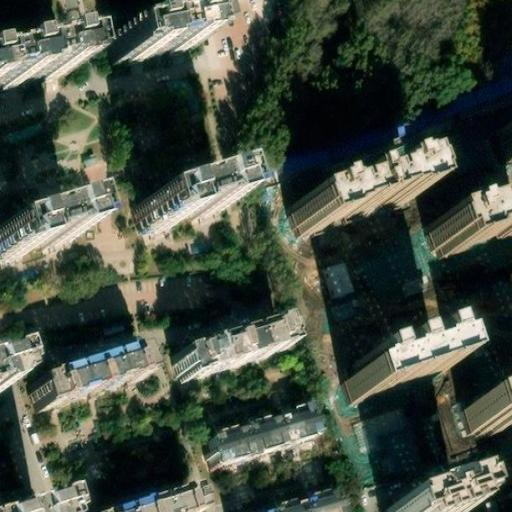building: (200, 407, 317, 482), (292, 173, 417, 241), (173, 330, 290, 394), (31, 358, 133, 415), (425, 197, 512, 258), (126, 184, 216, 235), (333, 356, 413, 407), (107, 24, 190, 65), (244, 489, 342, 511), (318, 258, 355, 301)
